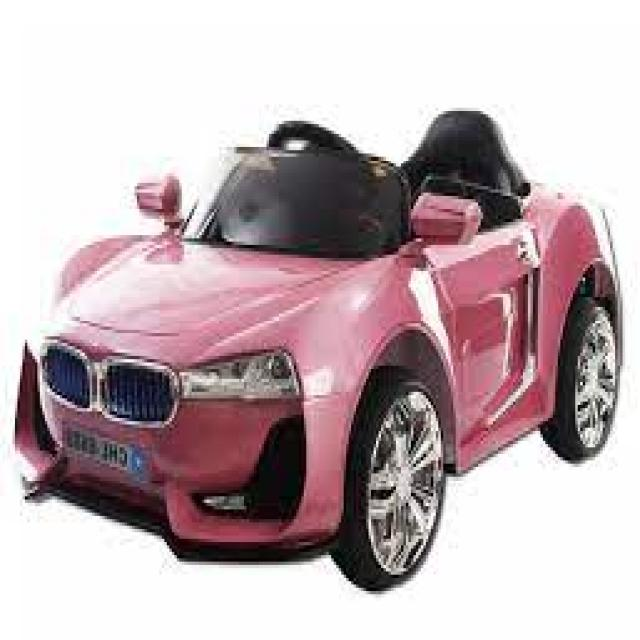Car: (10, 105, 623, 591)
